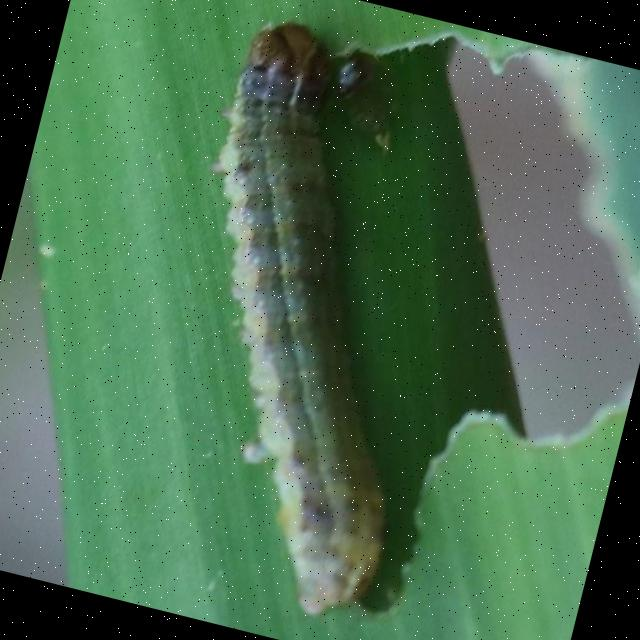worm: (111, 10, 506, 630)
